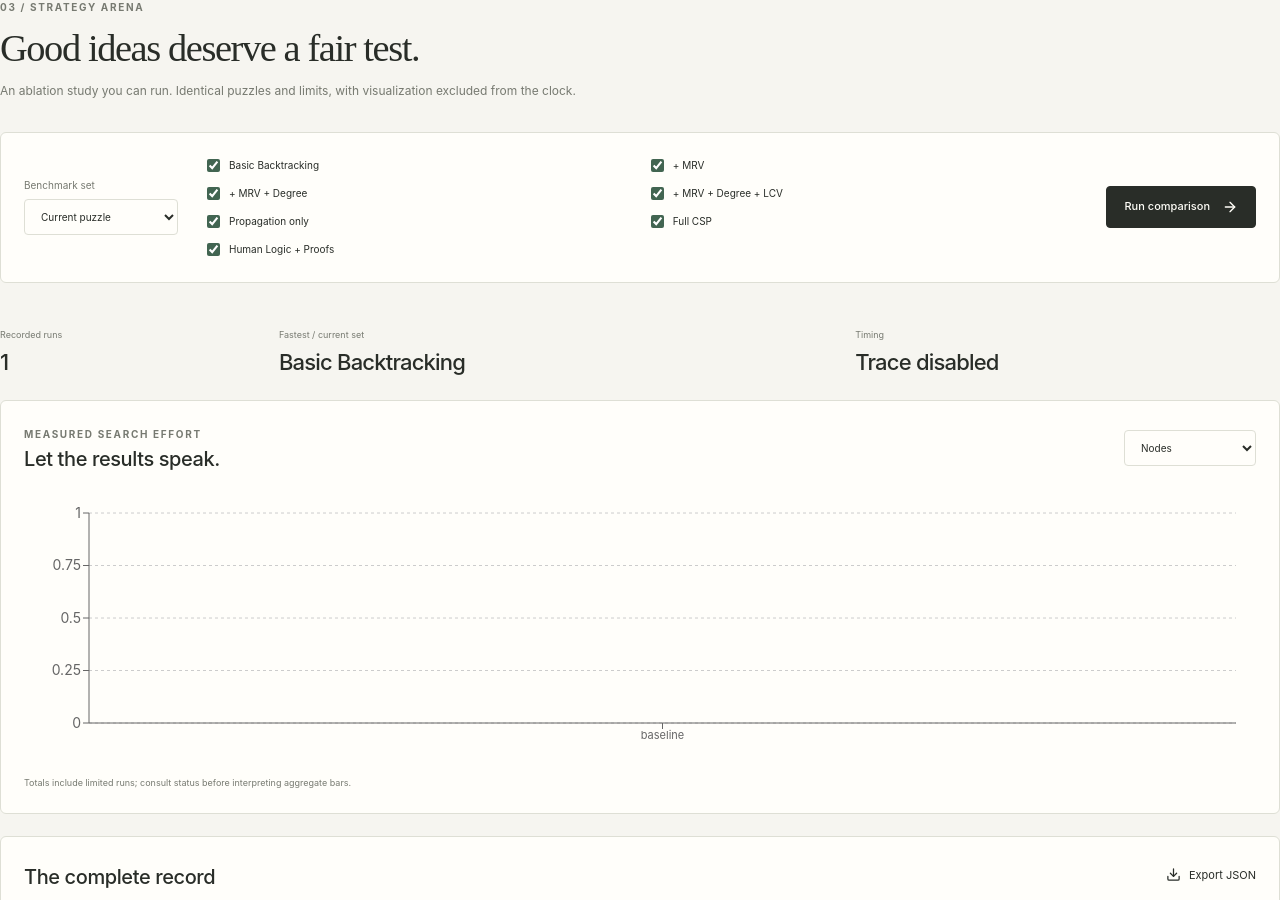
Test: marks results stale when the selected strategy set changes
What coordinates should you click on to do the following:
click the checkbox labelled "+ MRV"
I would click on:
 (657, 165)
Its box is [651,159,664,172].
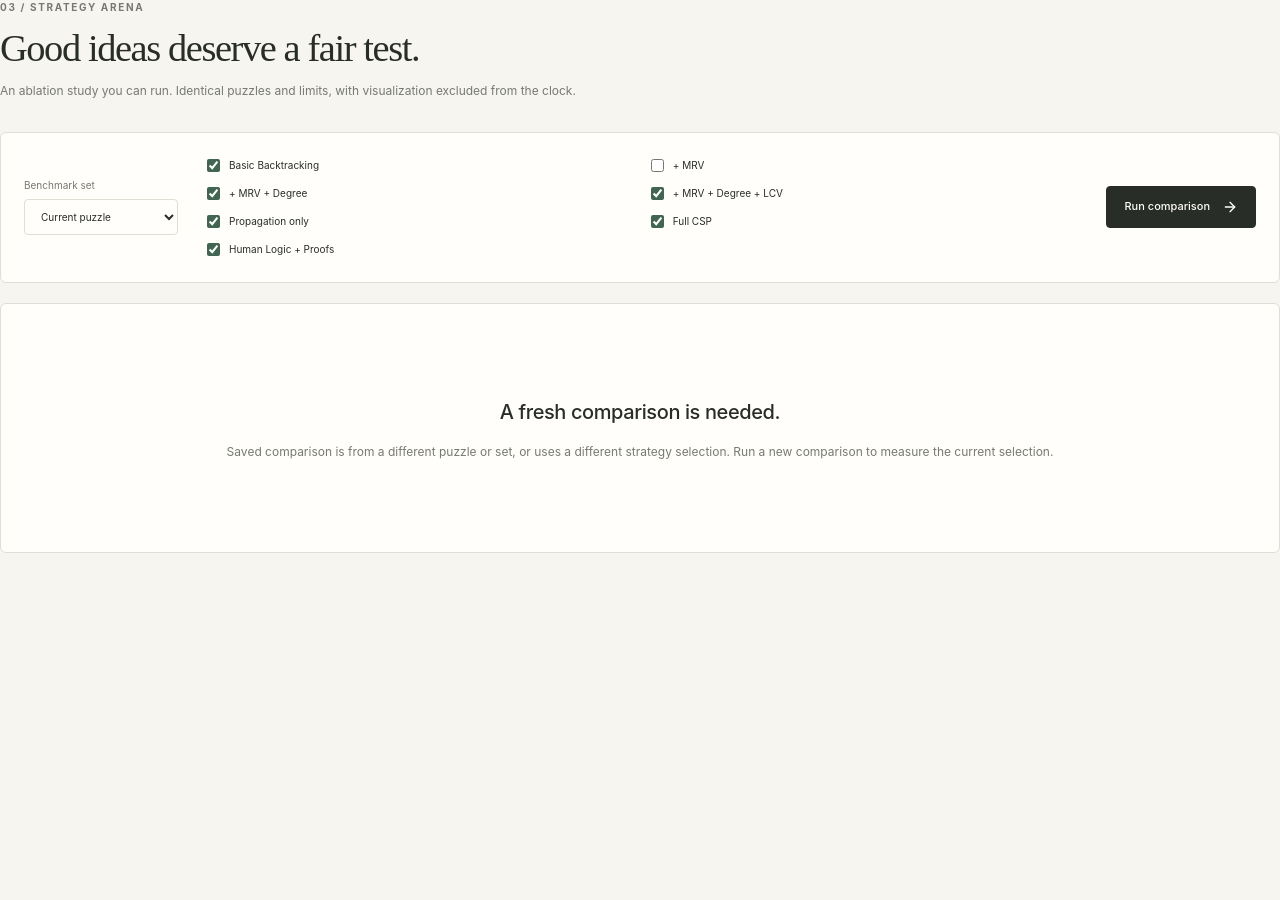
Expected: the text "Saved comparison is from a different puzzle or set" is shown, [227,444,1053,459]
